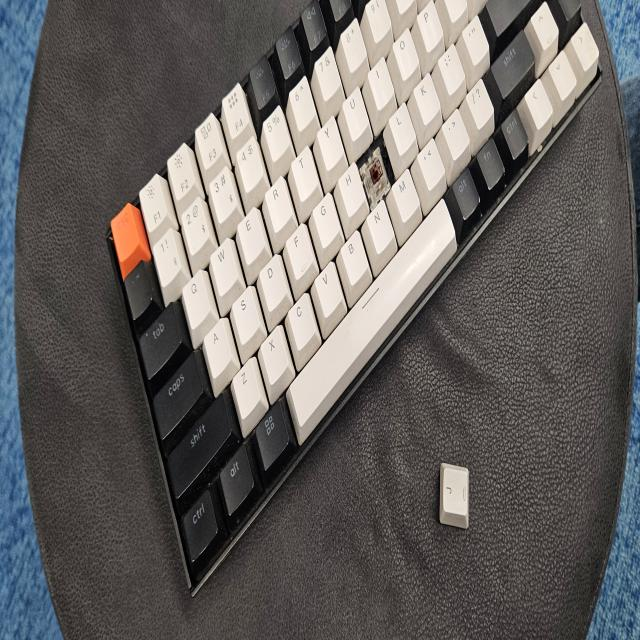C: (365, 157, 388, 188)
